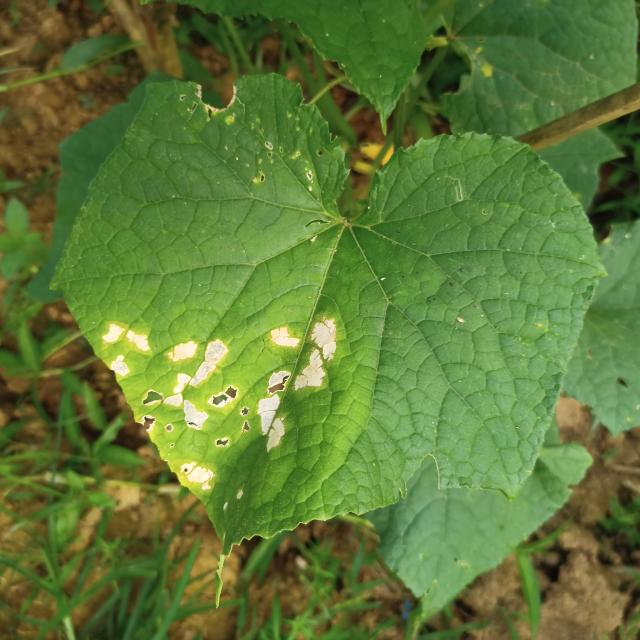disease_cucumber: (91, 310, 344, 505)
